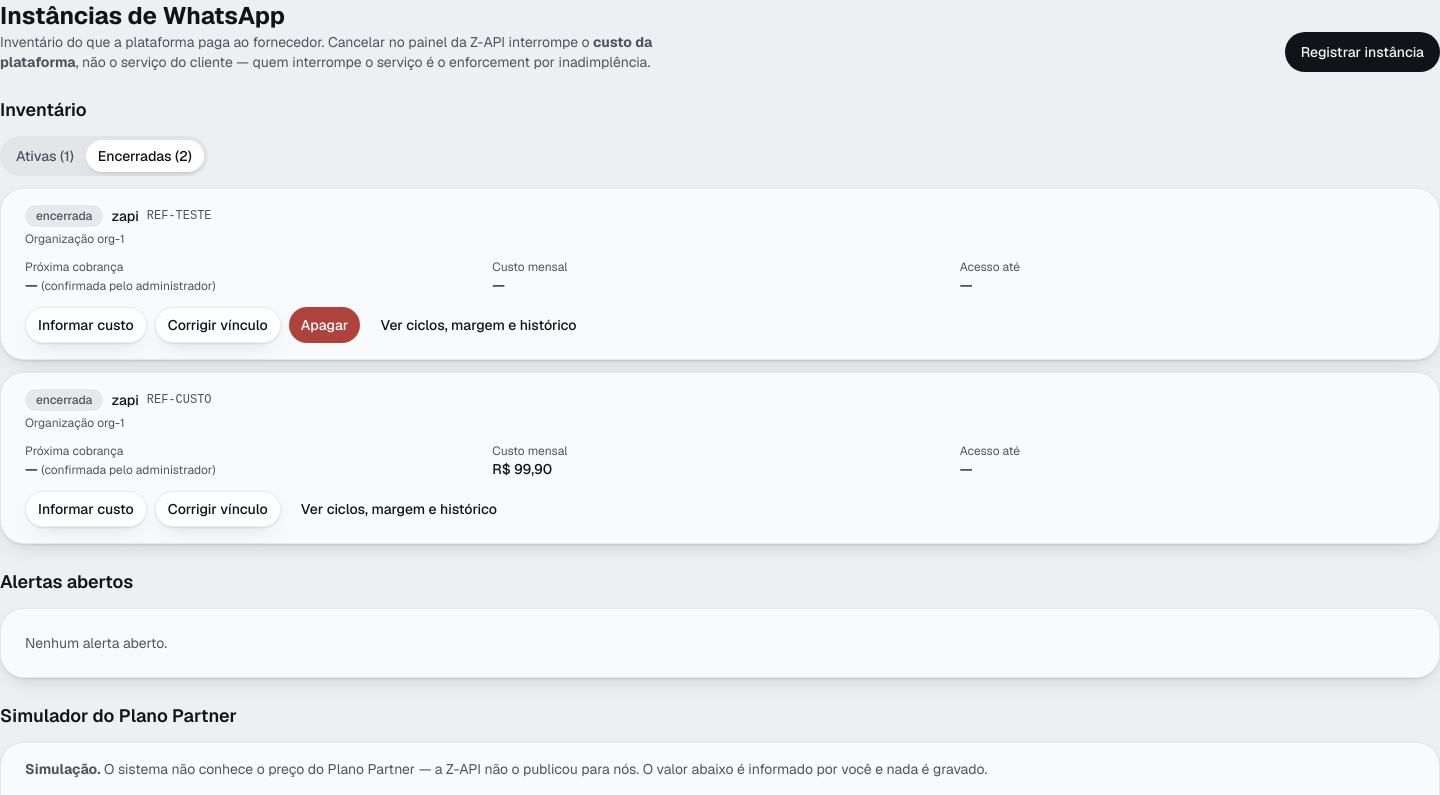
Scenario: Instâncias de WhatsApp — abas e exclusão › Confirmar do diálogo de exclusão só habilita com motivo de 5+ caracteres após trim
Step 1. Click the button "Apagar" → (325, 325), box x1=289 y1=307 x2=360 y2=343
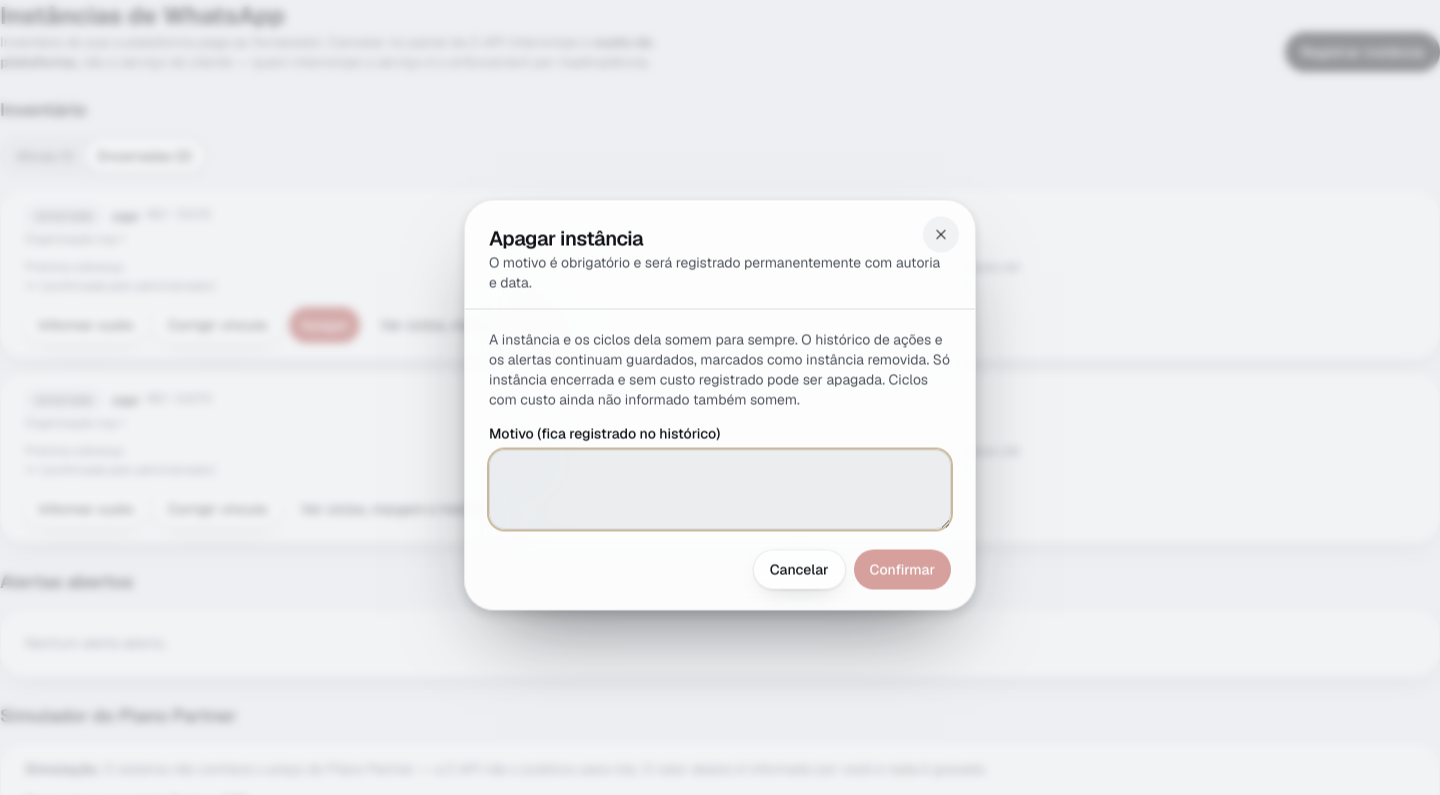
Check: the button "Confirmar" is disabled, box x1=854 y1=550 x2=951 y2=590
Step 2. Type "  abc  " into the text box labelled "Motivo (fica registrado no histórico)" → (720, 490), box x1=489 y1=450 x2=951 y2=530
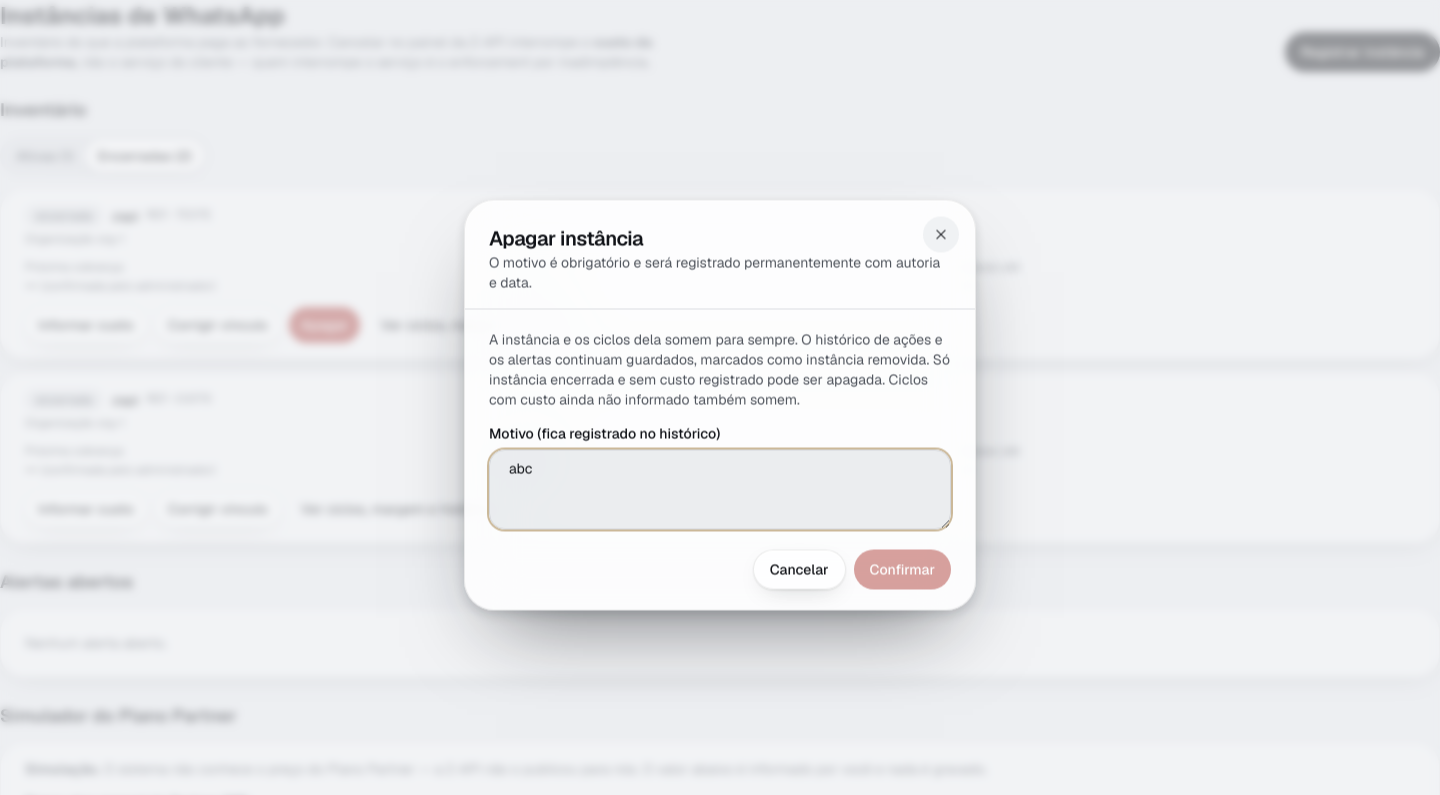
Check: the button "Confirmar" is disabled, box x1=854 y1=550 x2=951 y2=590
Step 3. Replace the text in the text box labelled "Motivo (fica registrado no histórico)" with "  abcde  " → (720, 490), box x1=489 y1=450 x2=951 y2=530
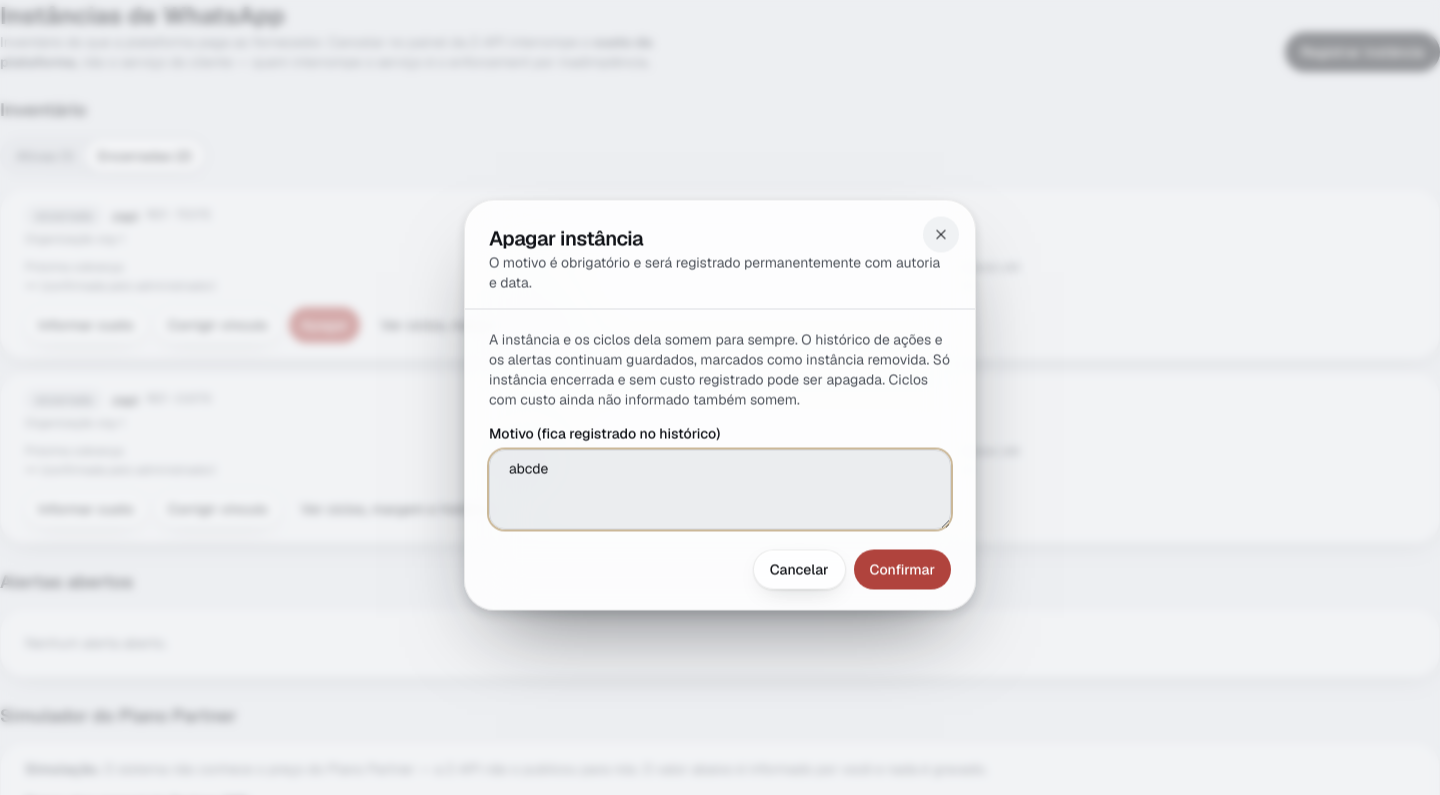
Check: the button "Confirmar" is enabled, box x1=854 y1=550 x2=951 y2=590
